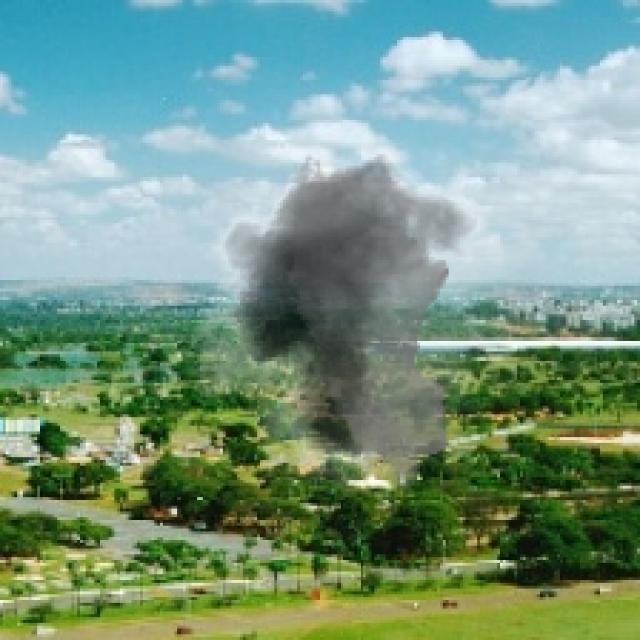Smoke: (174, 122, 549, 492)
